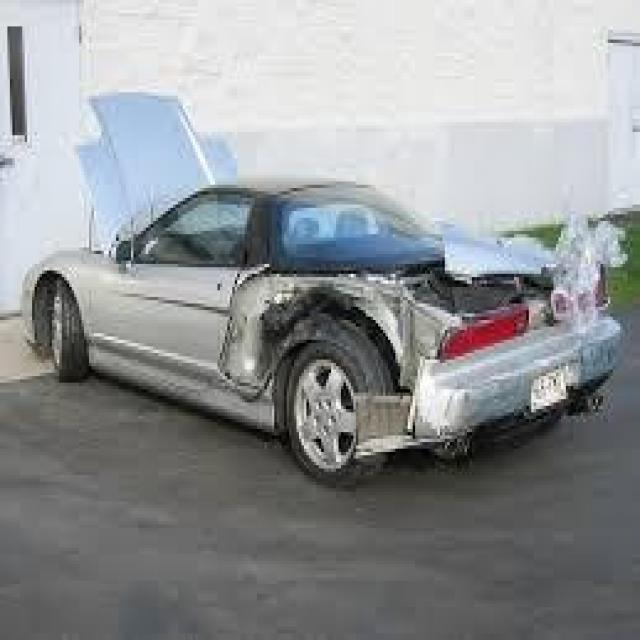damaged: (376, 238, 604, 476), (286, 258, 421, 324), (225, 264, 289, 396)
